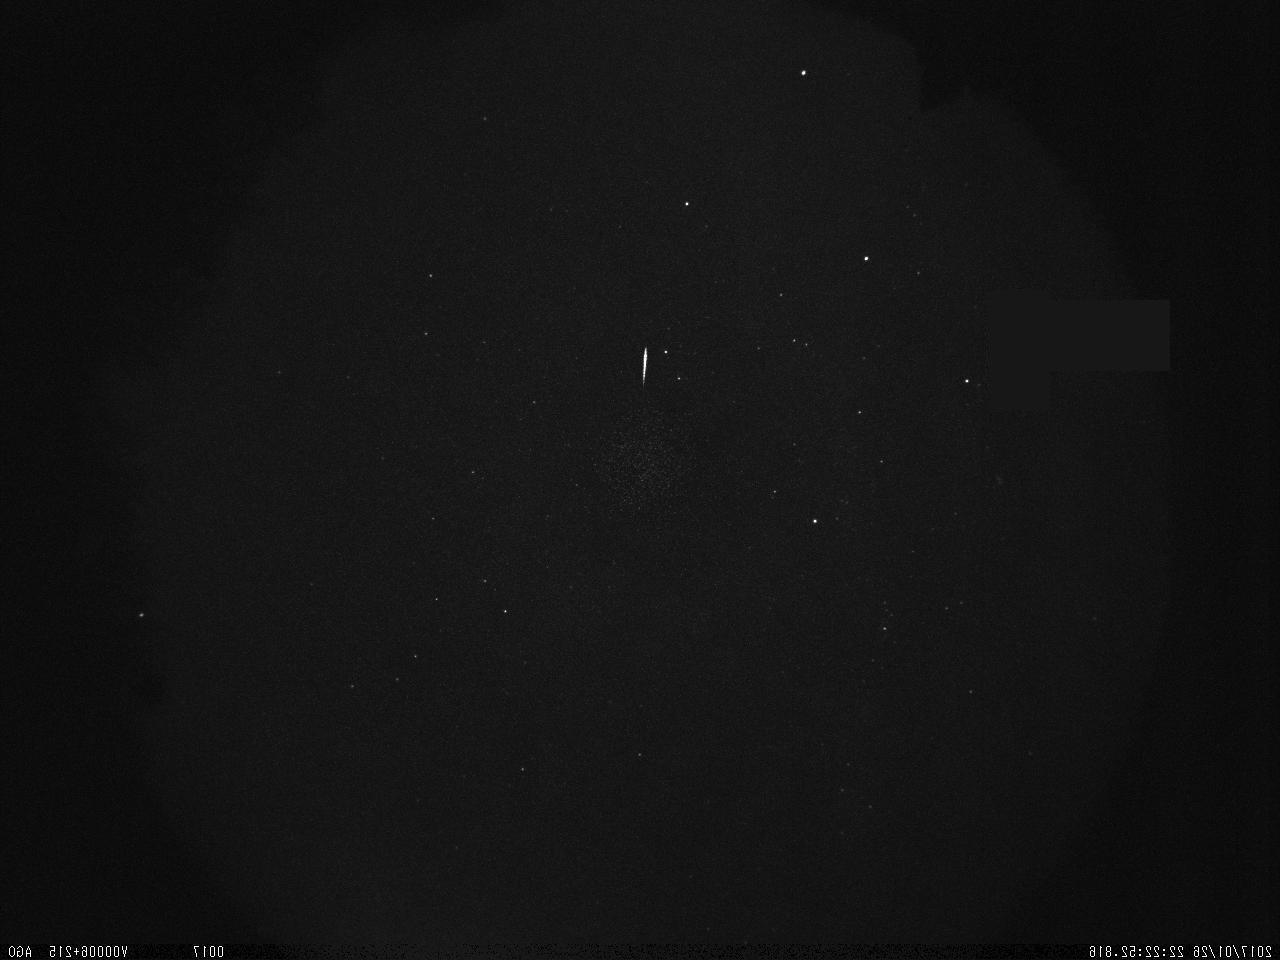meteor: (635, 344, 655, 391)
